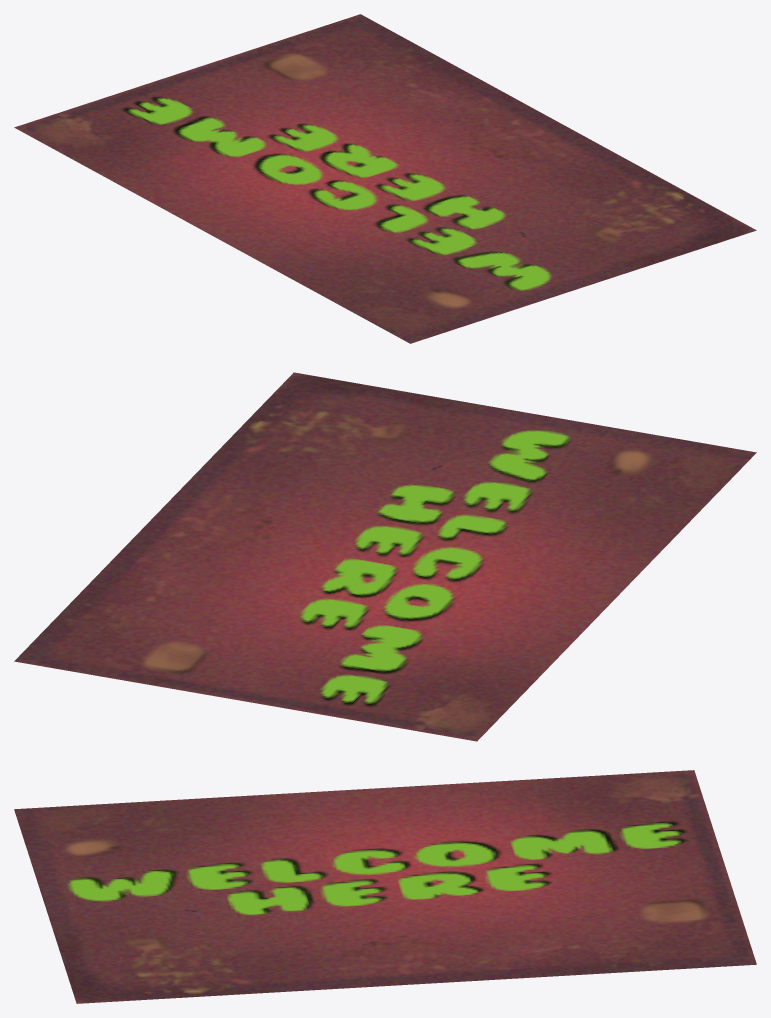
The model's file is Tx_prop_floor mat_3.fbx.
3 views of the same model, one above another, from view 1: azimuth 30°, elevation 25°; view 2: azimuth 150°, elevation 25°; view 3: azimuth 270°, elevation 25° (orthographic). The views are drawn at different scales.
Visible parts, largest first — view 1: Tx_prop_floor_mat_10; view 2: Tx_prop_floor_mat_10; view 3: Tx_prop_floor_mat_10.
Boxes of the visible parts, <box> form: Tx_prop_floor_mat_10: <box>14,14,756,343</box>; Tx_prop_floor_mat_10: <box>14,372,756,741</box>; Tx_prop_floor_mat_10: <box>14,770,756,1003</box>.
Size of the model in its own units: 3.62 by 0 by 4.86.
Materials: 1 (1 with a texture image).
